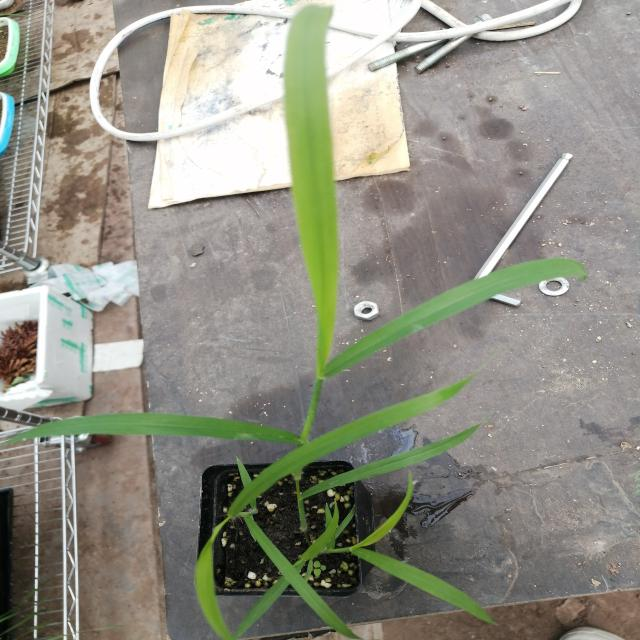crabgrass: (34, 392, 480, 612)
